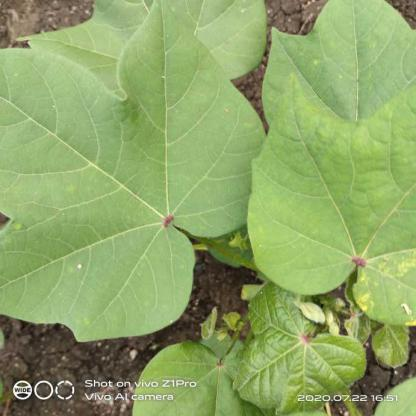cotton: (0, 5, 250, 344), (251, 0, 416, 332)
